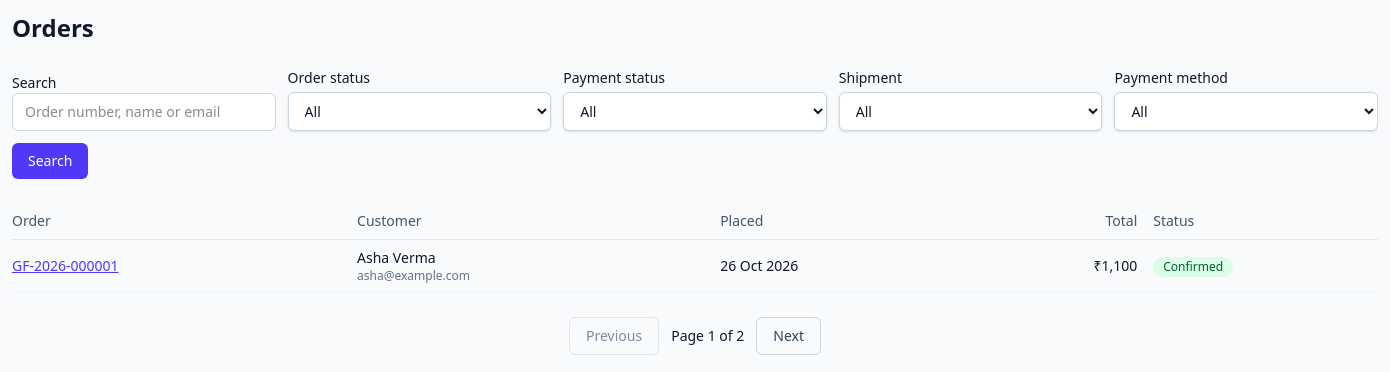
Test: AdminOrdersPage › moves between pages
Step 1. Click the button "Next" → (789, 336), box top-left (756, 317), bottom-right (821, 355)
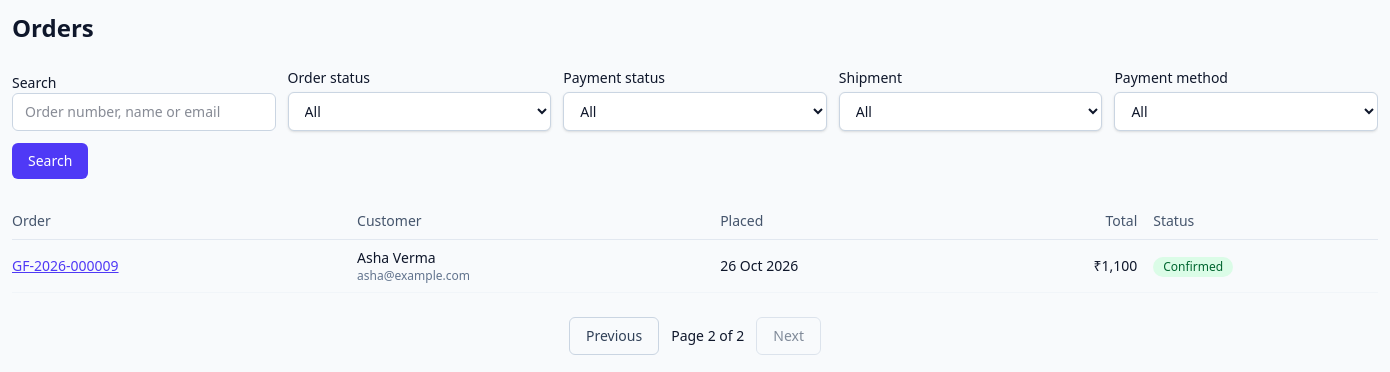
Now the link "GF-2026-000009" is shown, box top-left (12, 256), bottom-right (119, 275)
